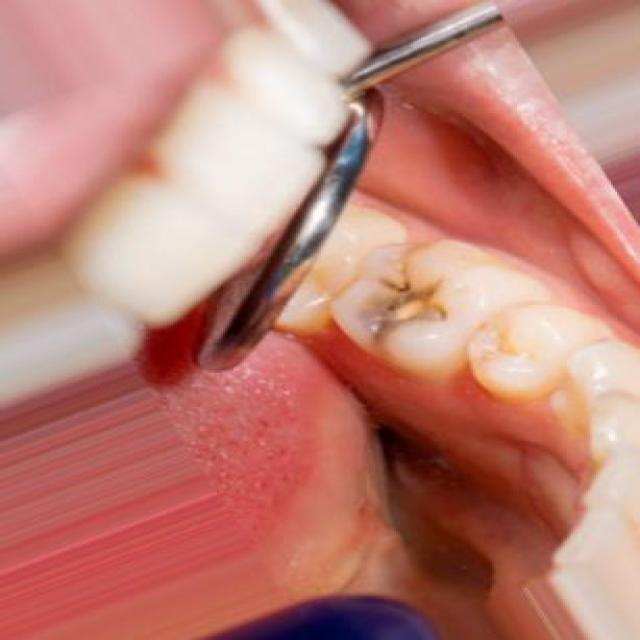caries: (339, 250, 500, 363)
